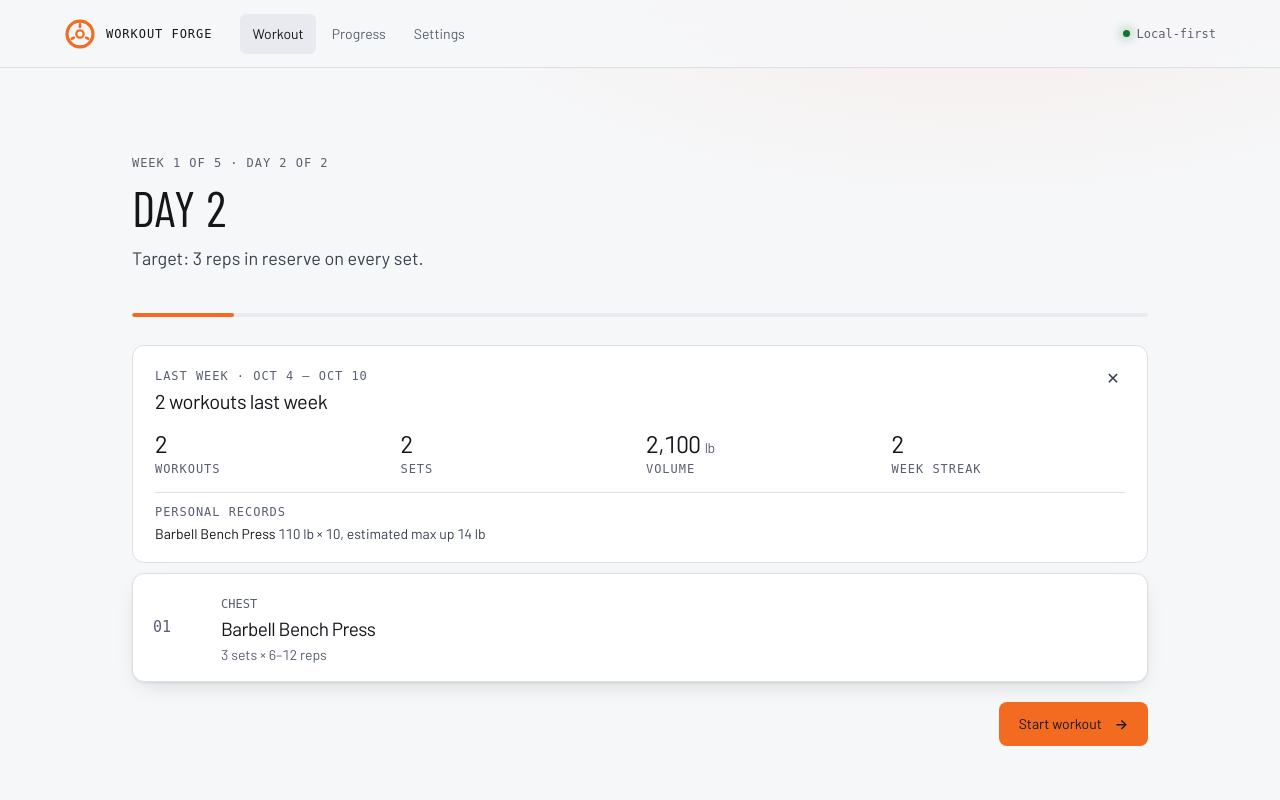
Test: weekly report on Today › always shows on Progress without a dismiss button, even after dismissing it on Today
Click the button named "Dismiss weekly report": (1113, 378) [1091,356,1135,400]
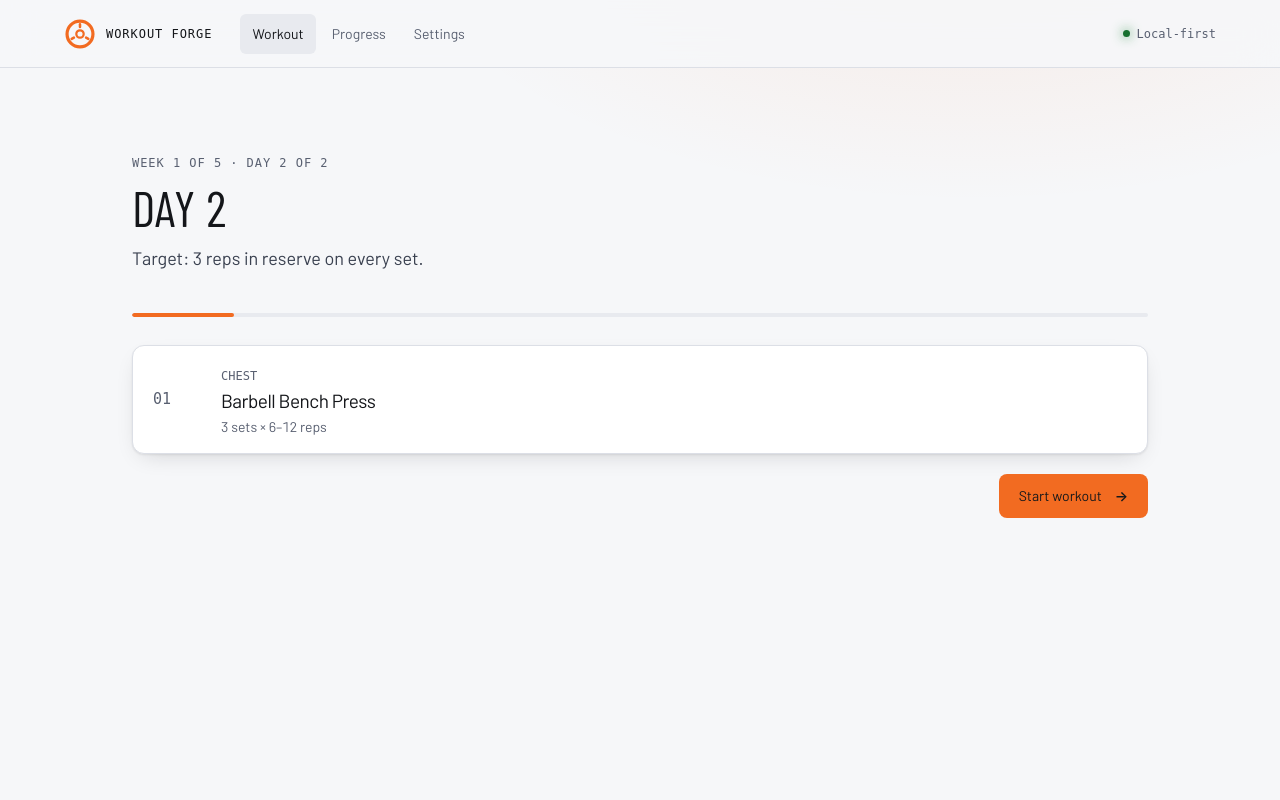
Click the button "Progress": (359, 34) [320,14,398,54]
(page scrolled)
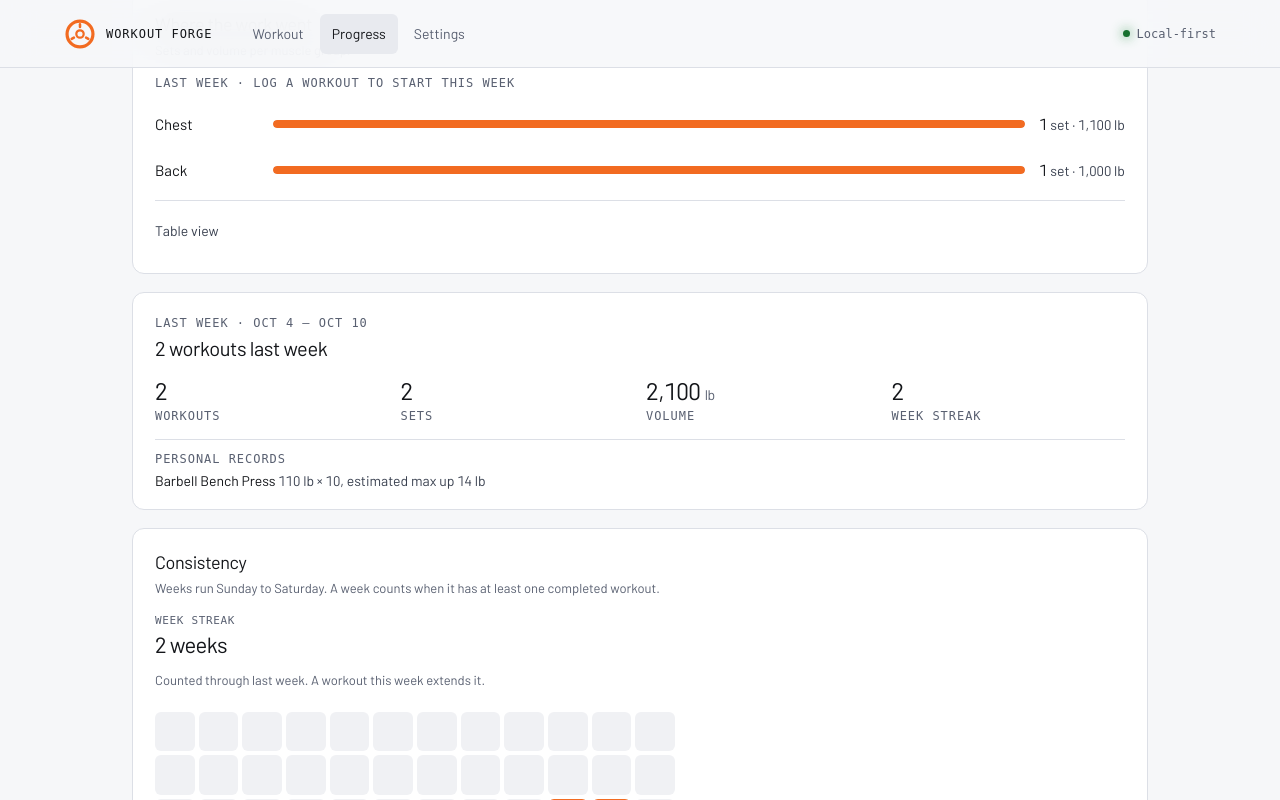
Now the element "2 workouts last week" is shown, box [132,292,1148,510]
